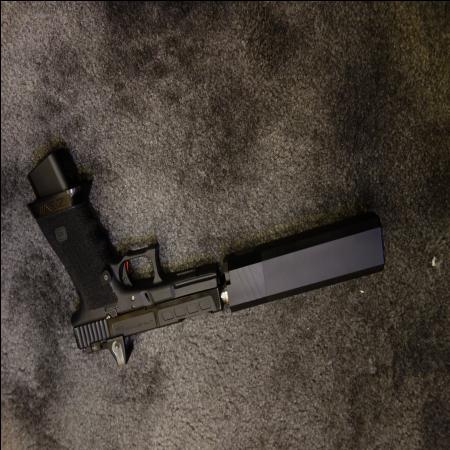Pistol: (22, 156, 225, 364)
